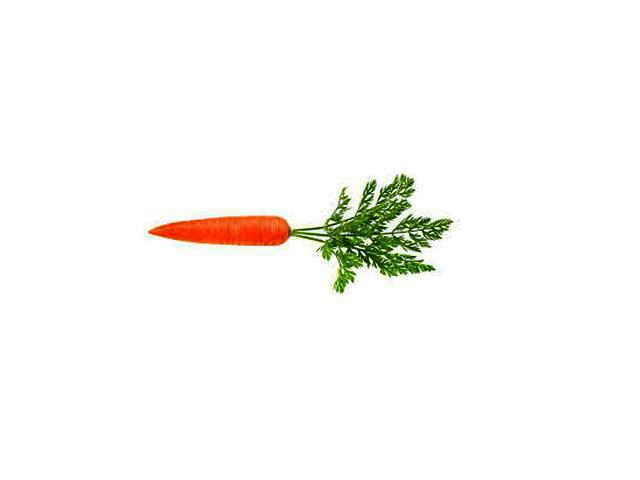carrot: (144, 212, 294, 251)
